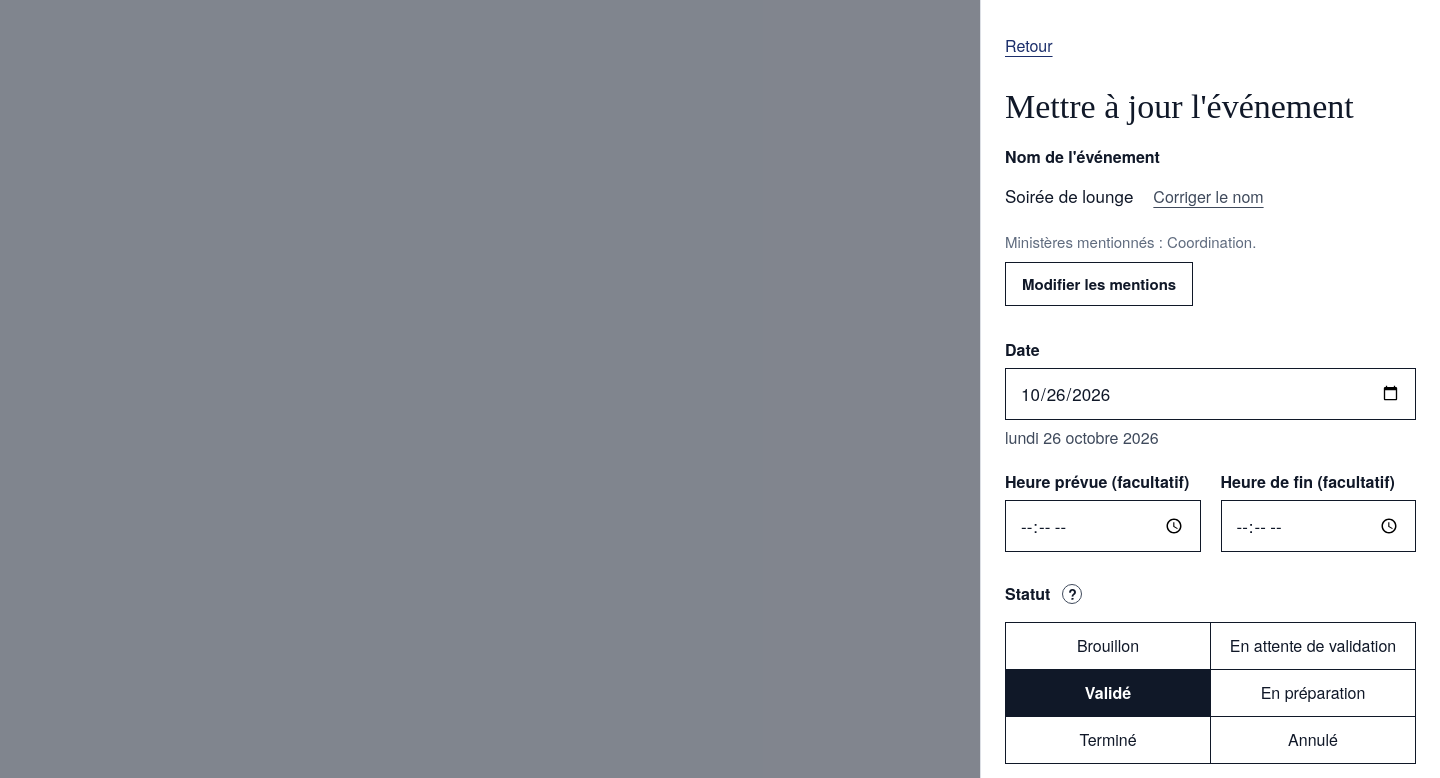
panneau du porteur, avant la date (T78) › modifier les mentions : les actuelles cochées, jamais le porteur, la liste voulue envoyée
Click the button "Modifier les mentions".
click(1099, 284)  # box x1=1005 y1=262 x2=1193 y2=306
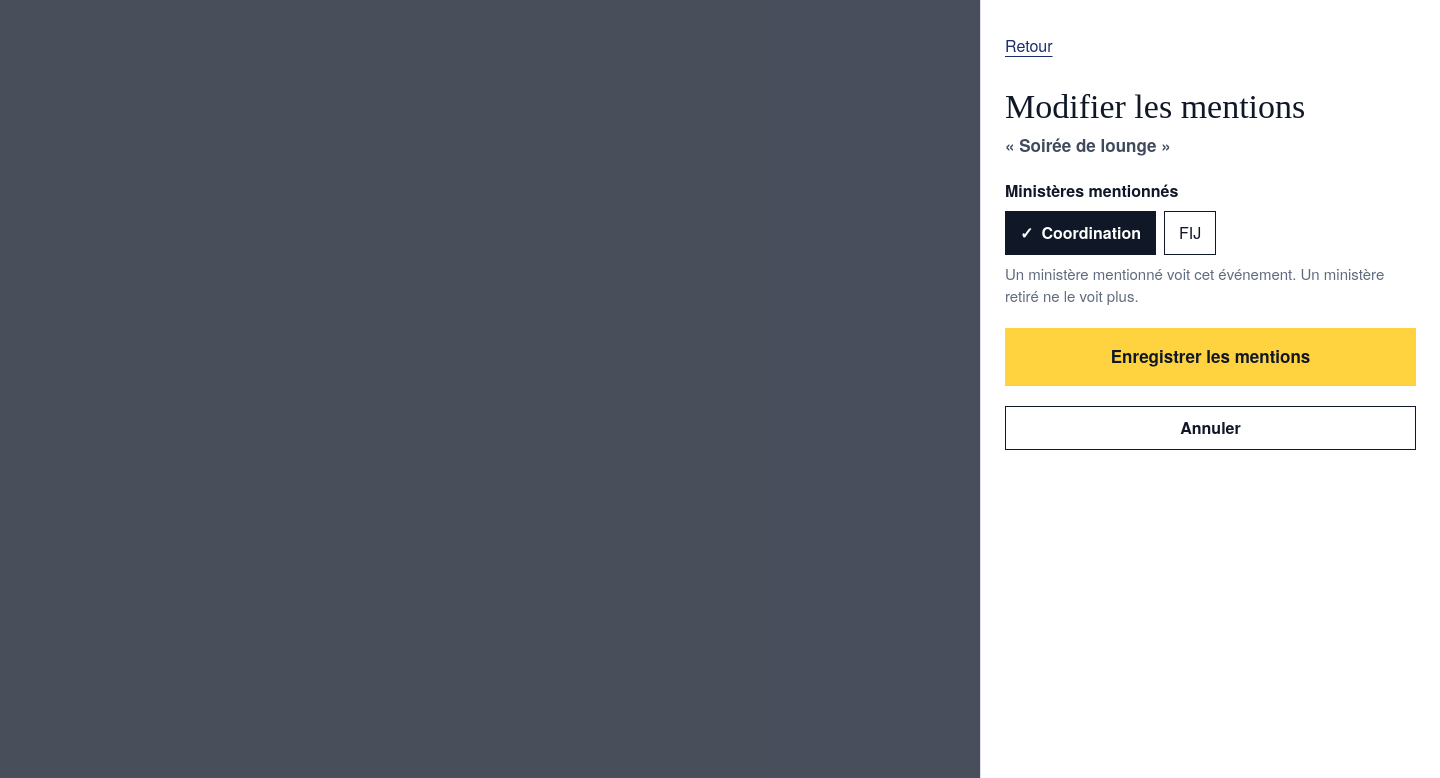
Check: the checkbox labelled "✓ Coordination" is checked, box x1=1005 y1=211 x2=1156 y2=255
Click the button named "Enregistrer les mentions".
click(1210, 357)  # box x1=1005 y1=328 x2=1416 y2=386
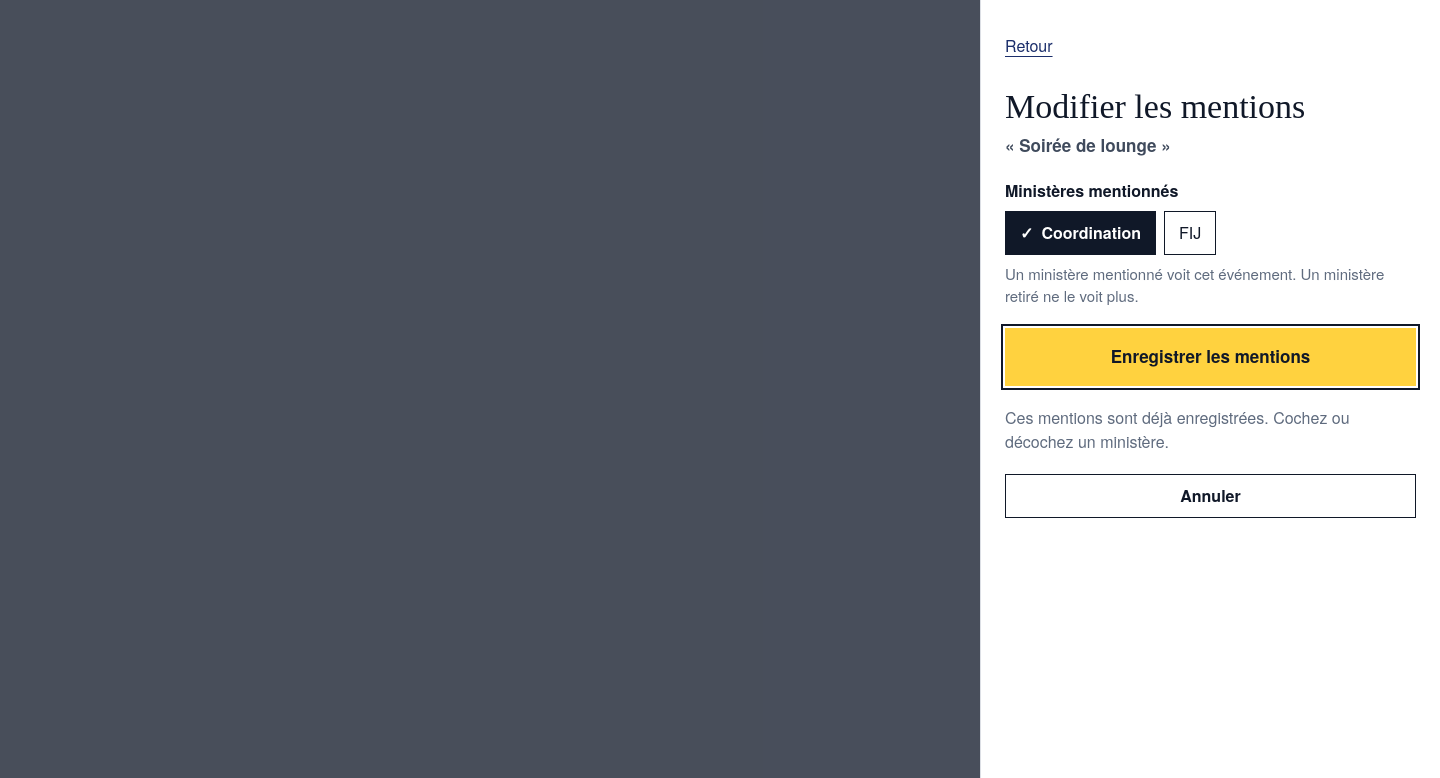
Check: the text "Ces mentions sont déjà enregistrées. Cochez ou décochez un ministère." is shown, box x1=1005 y1=406 x2=1350 y2=453
Click the checkbox labelled "✓ Coordination".
click(1080, 233)  # box x1=1005 y1=211 x2=1156 y2=255
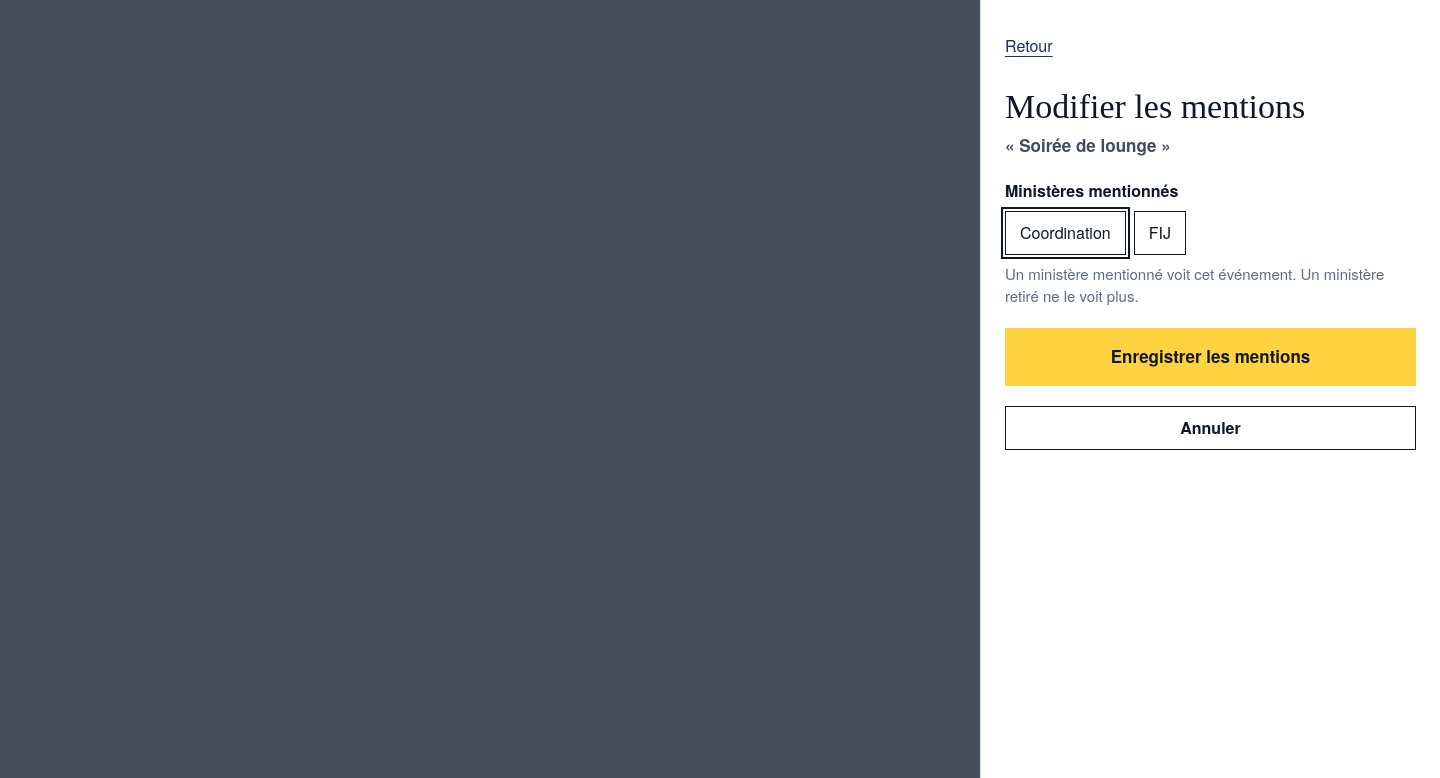
Click the checkbox labelled "FIJ".
click(1160, 233)  # box x1=1134 y1=211 x2=1186 y2=255
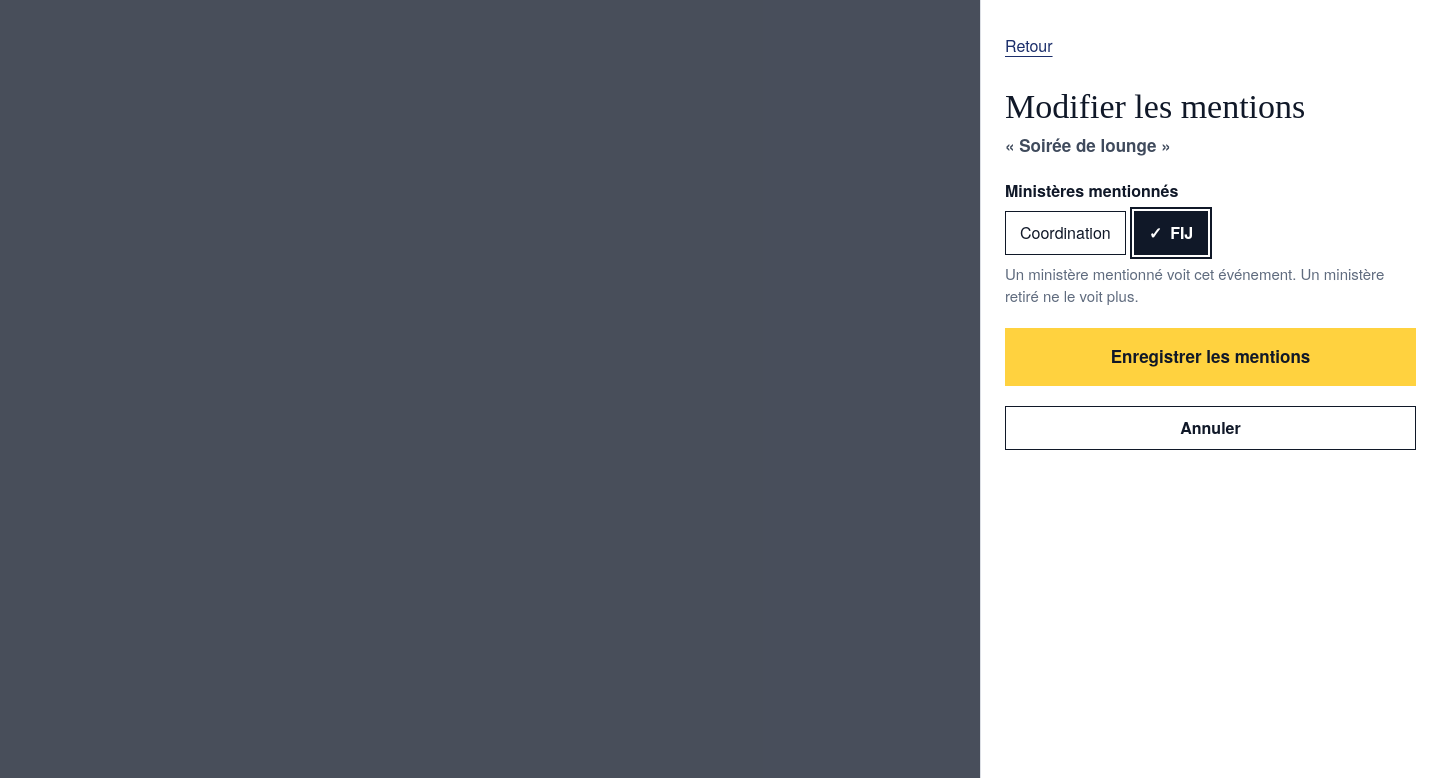
Click the button named "Enregistrer les mentions".
click(1210, 357)  # box x1=1005 y1=328 x2=1416 y2=386
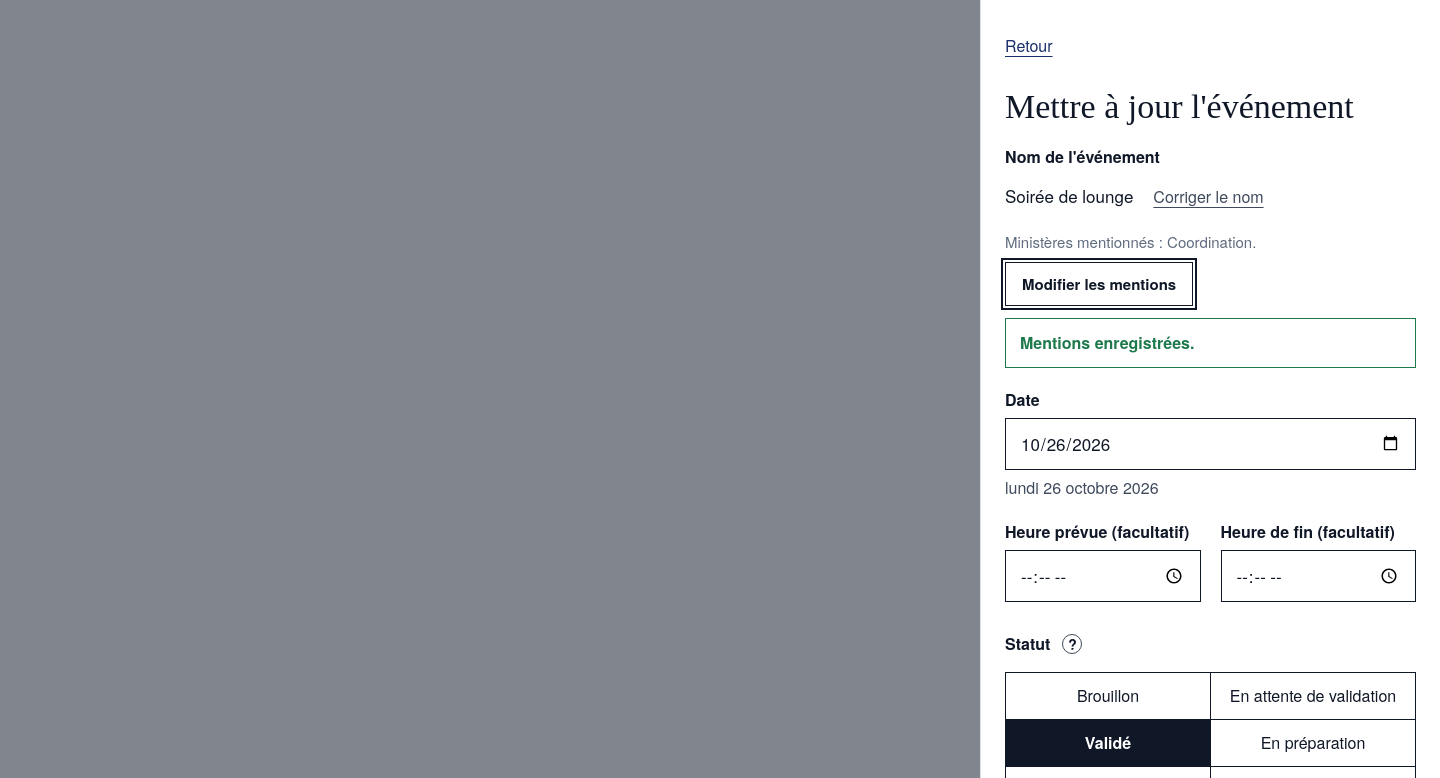
Check: the text "Mentions enregistrées." is shown, box x1=1005 y1=318 x2=1416 y2=368
